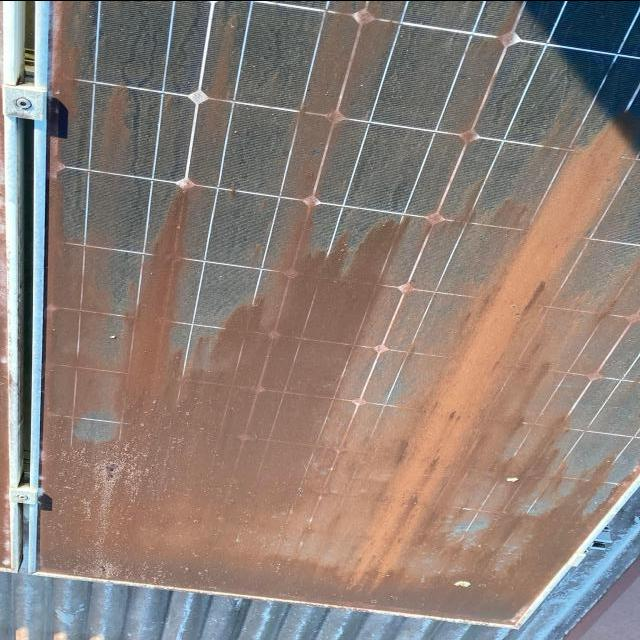soiled: (15, 5, 640, 627)
